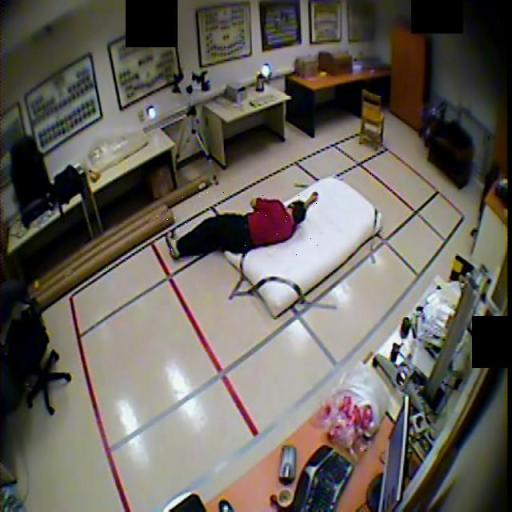Fall: (168, 191, 319, 260)
